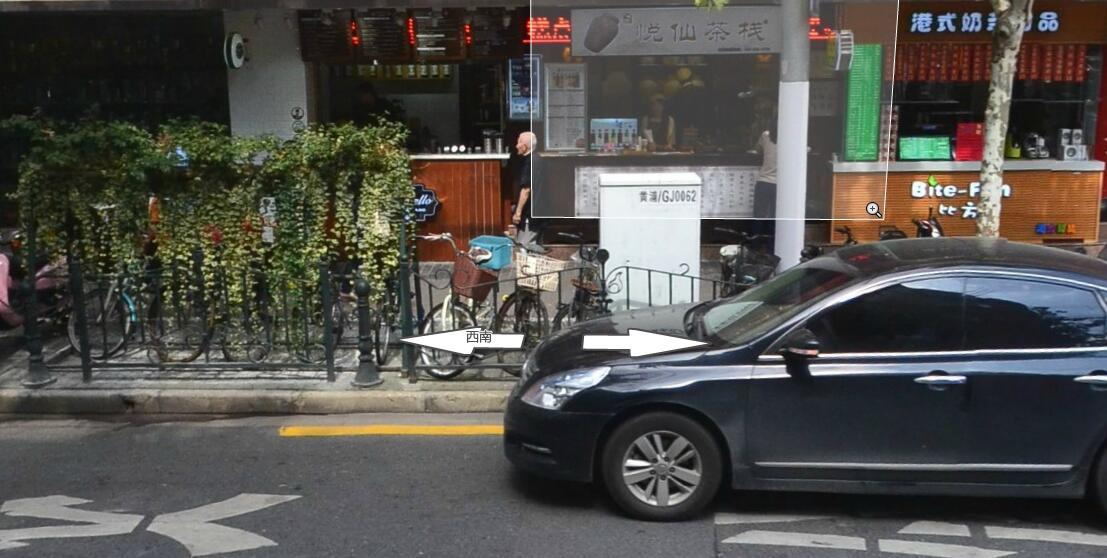side: (1, 390, 158, 415), (158, 390, 293, 415), (292, 390, 425, 415)
